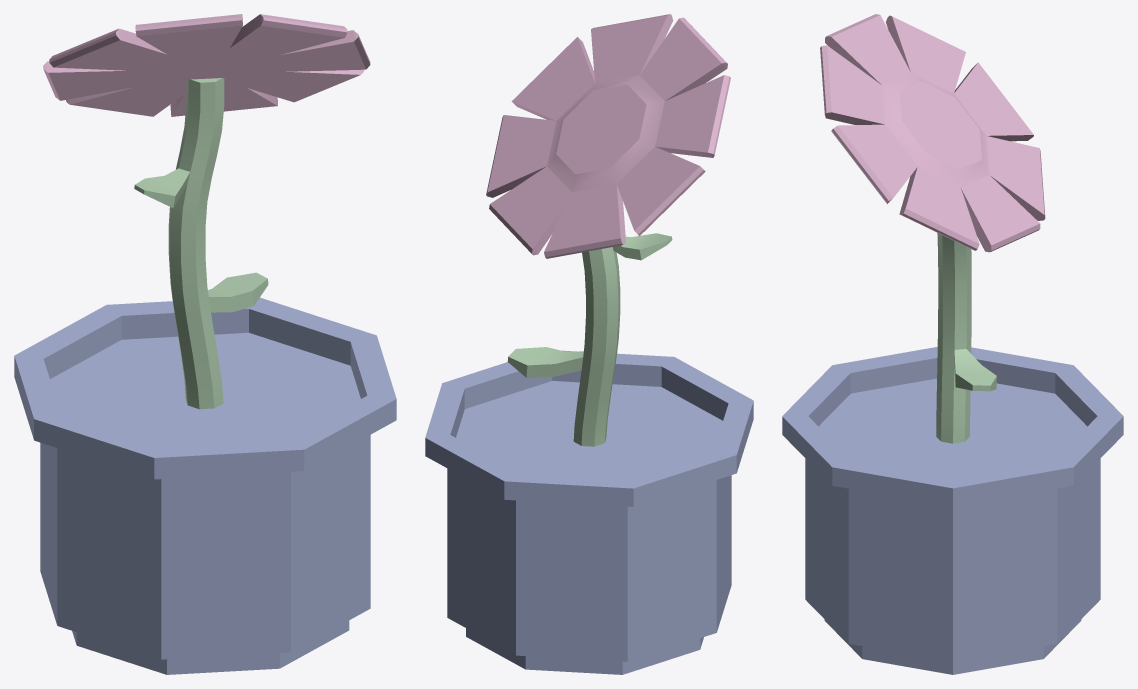
Rendered from FlowerPot.fbx.
3 views of the same model, side by side, from view 1: azimuth 30°, elevation 25°; view 2: azimuth 150°, elevation 25°; view 3: azimuth 270°, elevation 25° (orthographic). The views are drawn at different scales.
Visible parts, largest first — view 1: Circle.002, Circle, Circle.001; view 2: Circle.002, Circle, Circle.001; view 3: Circle.002, Circle, Circle.001.
Boxes of the visible parts, x1,y1,x2,y2 form: Circle.002: (14, 297, 396, 674); Circle: (43, 14, 370, 116); Circle.001: (134, 78, 268, 409); Circle.002: (425, 350, 753, 674); Circle: (486, 14, 730, 258); Circle.001: (507, 233, 672, 446); Circle.002: (782, 347, 1123, 674); Circle: (820, 14, 1045, 252); Circle.001: (936, 233, 996, 443).
Bounding box in the file's own units: 733 × 1349 × 733.
